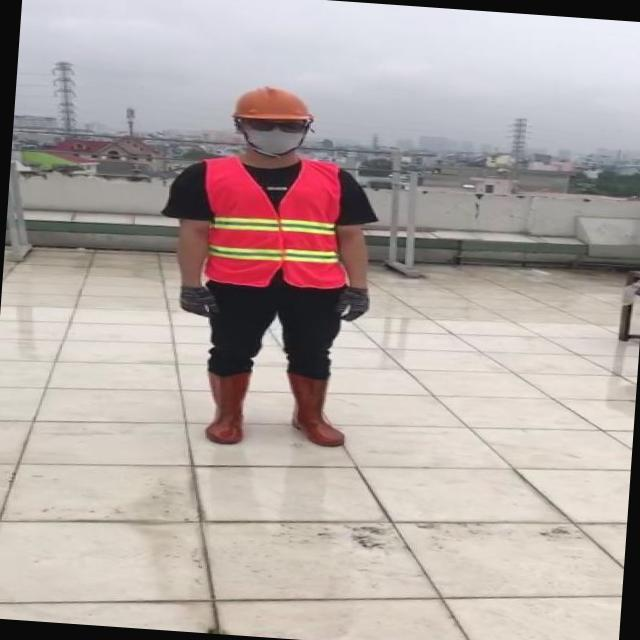boots: (278, 368, 350, 448), (196, 370, 254, 448)
helmet: (227, 81, 316, 126)
vest: (194, 155, 359, 290)
